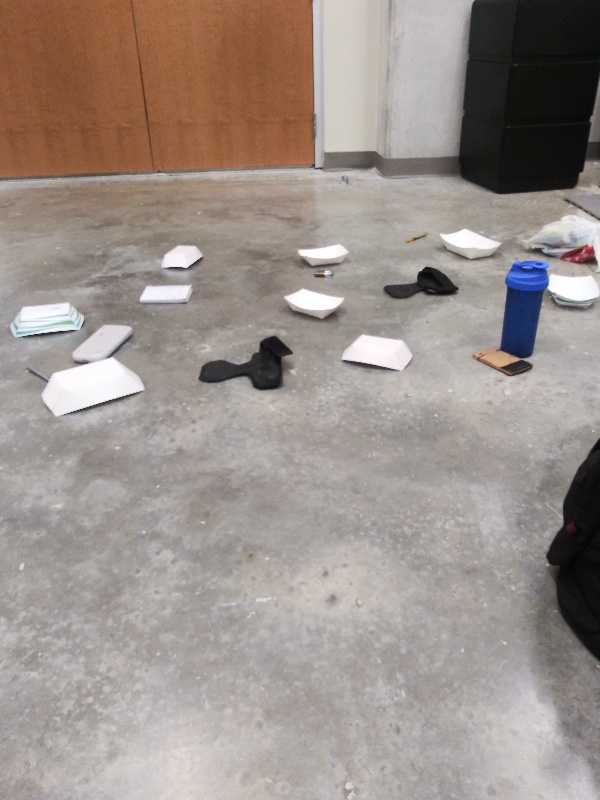plate: (39, 354, 150, 422), (5, 298, 90, 344), (333, 330, 416, 376), (436, 223, 507, 263), (543, 269, 600, 312), (281, 284, 348, 320), (155, 240, 206, 276), (294, 239, 354, 268)
